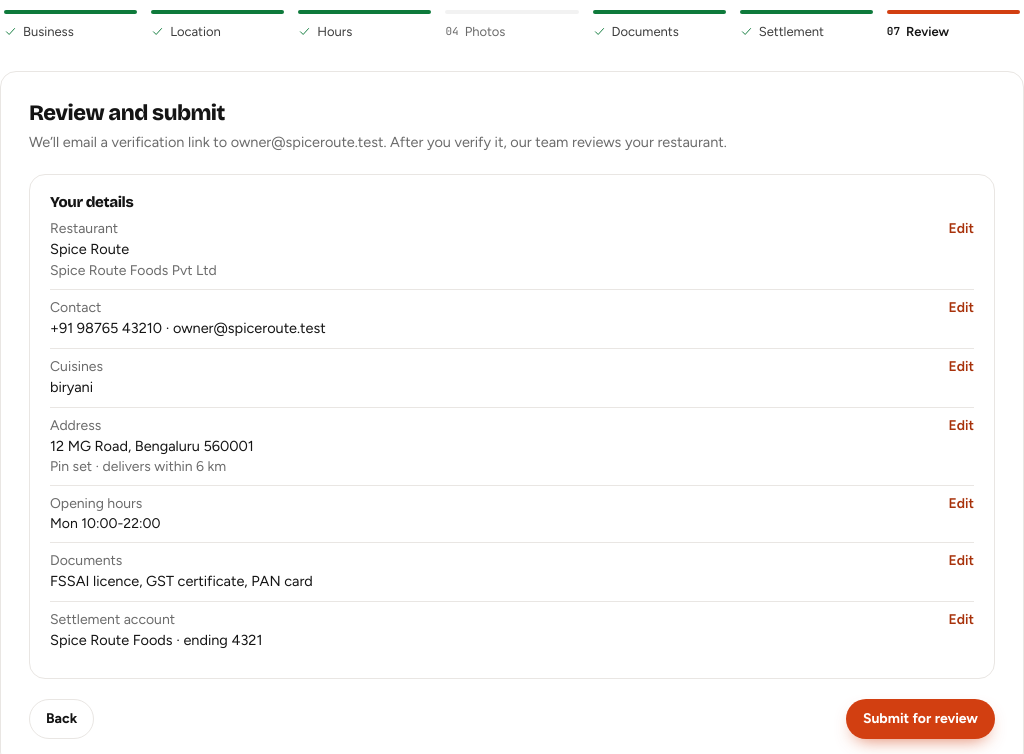
Test: OnboardingWizard: review and submit › shows the verification-pending banner (with resend + cooldown) after a successful submit
(page scrolled)
Expected: the text "verify your business email" is not shown
Click the button "Submit for review".
click(920, 719)  # box [846,699,995,739]
(page scrolled)
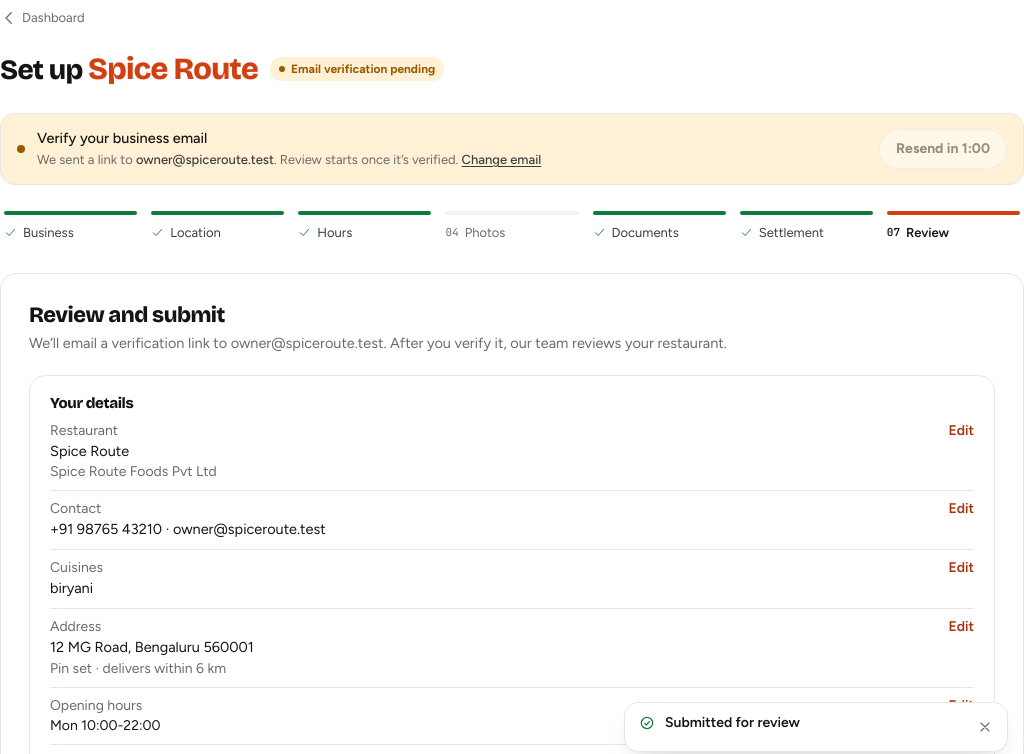
Now the text "Verify your business email" is shown, box [37,129,207,147]
Now the text "owner@spiceroute.test" is shown, box [136,152,274,167]
Now the button "Resend in 1:00" is disabled, box [879,129,1007,169]
